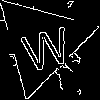W: (17, 17, 74, 73)
